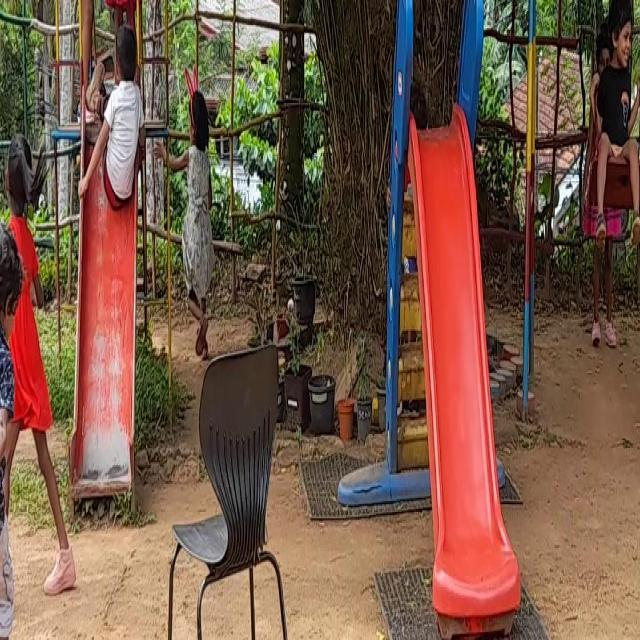child: (170, 41, 221, 370), (594, 0, 640, 267), (93, 17, 142, 209)
